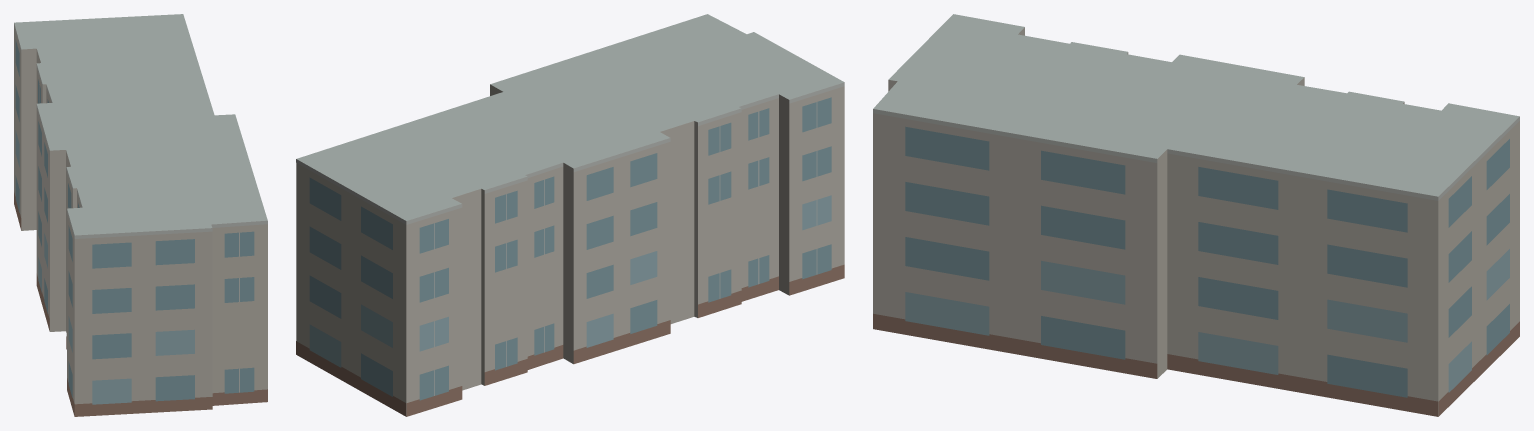
The model's file is survey-upis-32502910.glb.
The picture shows the model from 3 angles, left to right: view 1: azimuth 30°, elevation 25°; view 2: azimuth 150°, elevation 25°; view 3: azimuth 270°, elevation 25°; orthographic projection. The views are drawn at different scales.
Visible parts, largest first — view 1: survey-upis-32502910.tmp; view 2: survey-upis-32502910.tmp; view 3: survey-upis-32502910.tmp.
Part boxes in pixels (left/top/right/bottom): survey-upis-32502910.tmp: left=14, top=14, right=267, bottom=416; survey-upis-32502910.tmp: left=296, top=14, right=844, bottom=416; survey-upis-32502910.tmp: left=873, top=14, right=1519, bottom=416.
Bounding box in the file's own units: 22.16 × 12.45 × 33.15.
